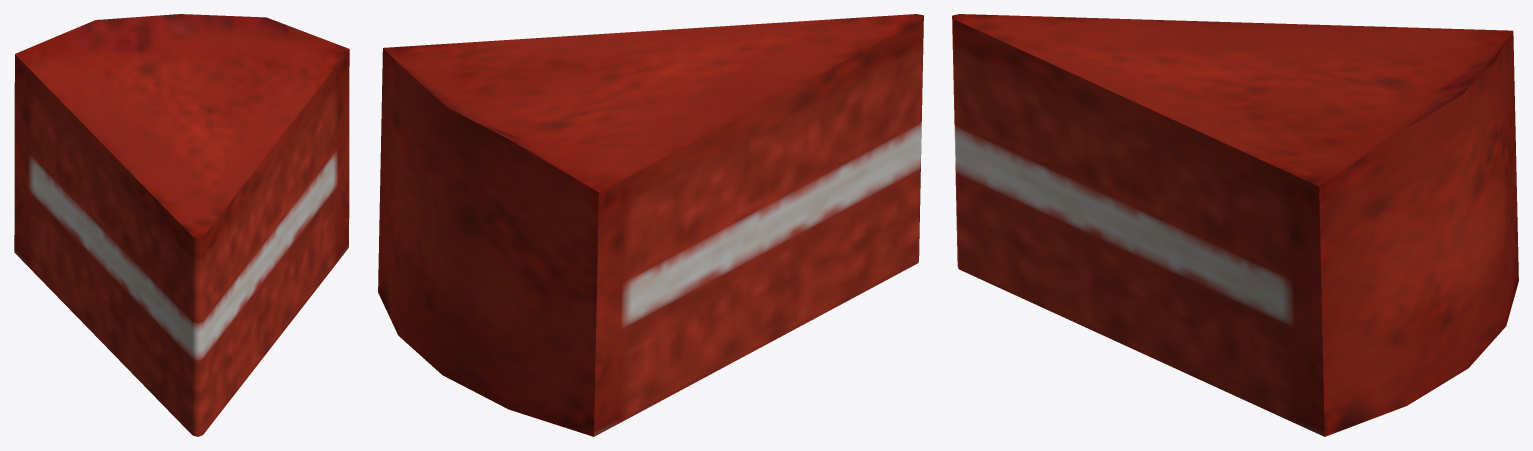
File: H_Sapph_CakeSlice.fbx
The picture shows the model from 3 angles, left to right: view 1: azimuth 30°, elevation 25°; view 2: azimuth 150°, elevation 25°; view 3: azimuth 270°, elevation 25°; orthographic projection. The views are drawn at different scales.
Parts seen in each view (by area): view 1: CakeSlice; view 2: CakeSlice; view 3: CakeSlice.
Part boxes in pixels (left/top/right/bottom): CakeSlice: left=14, top=14, right=349, bottom=436; CakeSlice: left=378, top=14, right=923, bottom=436; CakeSlice: left=952, top=14, right=1518, bottom=436.
Bounding box in the file's own units: 13.19 × 9.51 × 17.18.
